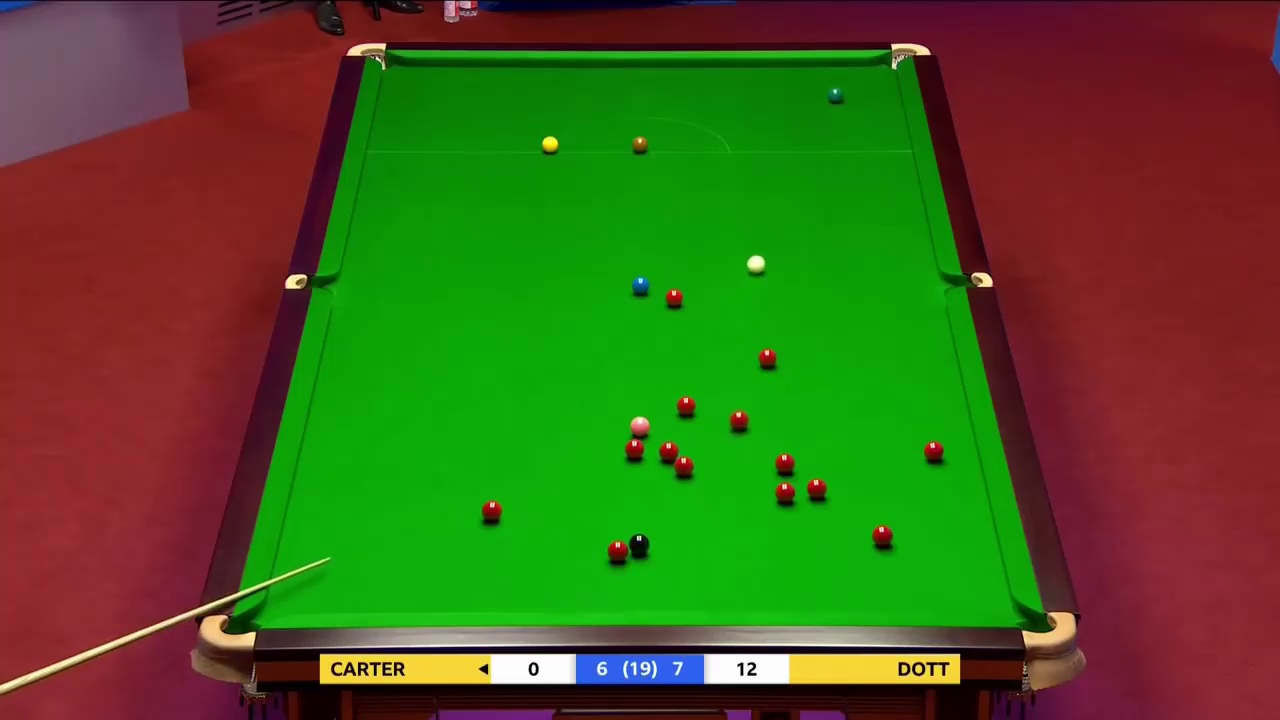ball: (873, 524, 893, 548), (922, 440, 943, 461), (482, 496, 501, 519), (628, 532, 648, 553), (729, 411, 749, 430), (608, 542, 627, 561), (540, 134, 560, 152), (807, 479, 827, 497), (675, 455, 694, 473), (759, 347, 776, 367), (674, 396, 694, 413), (664, 287, 683, 304), (775, 483, 794, 500), (776, 454, 793, 473), (625, 437, 642, 456), (630, 414, 646, 434), (631, 276, 649, 293), (827, 87, 846, 102), (633, 136, 647, 152)
